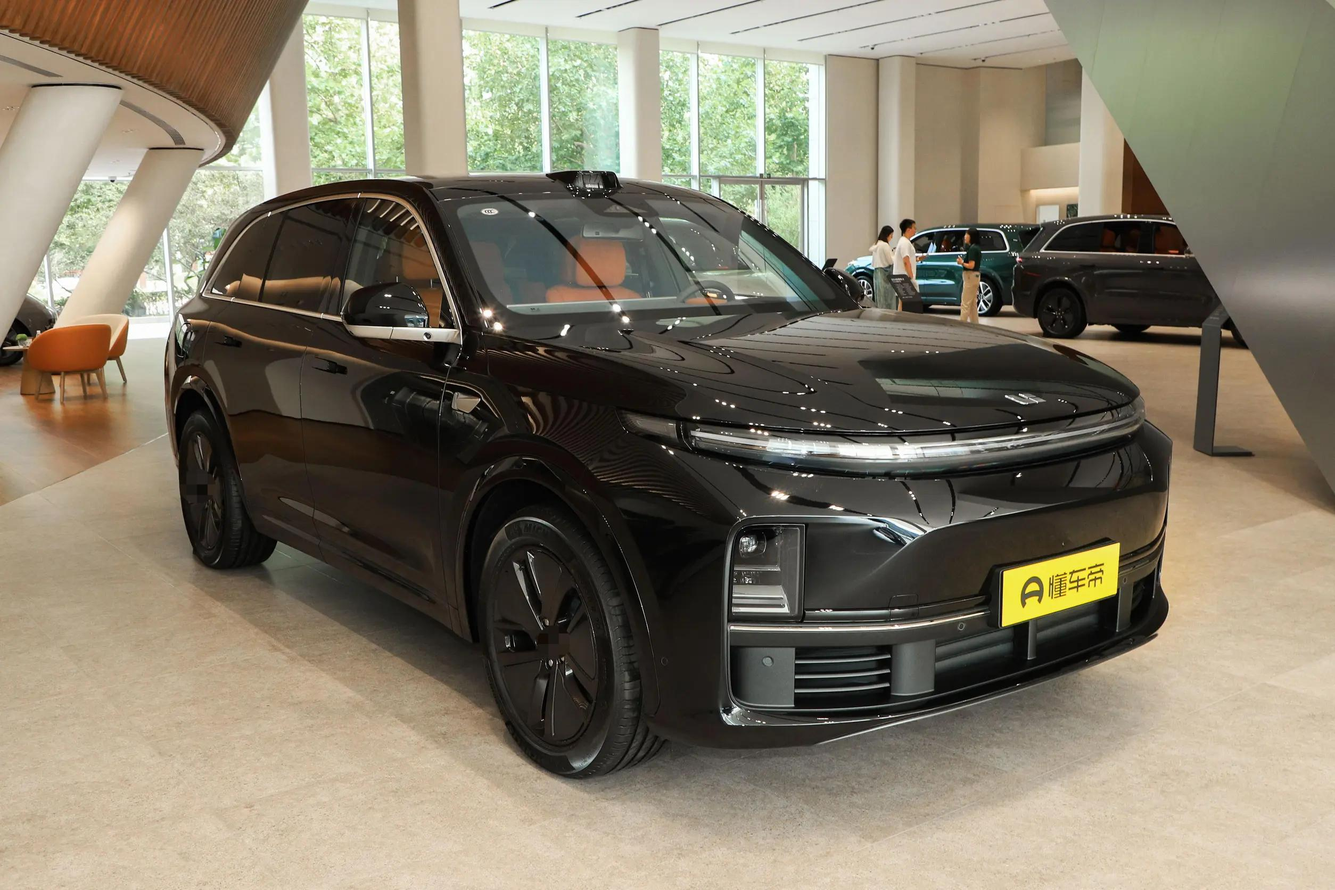Li Auto: (1003, 392, 1048, 405)
